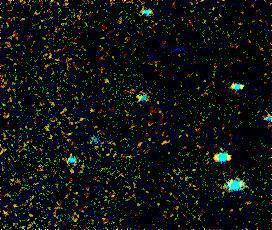star: (168, 36, 198, 66)
